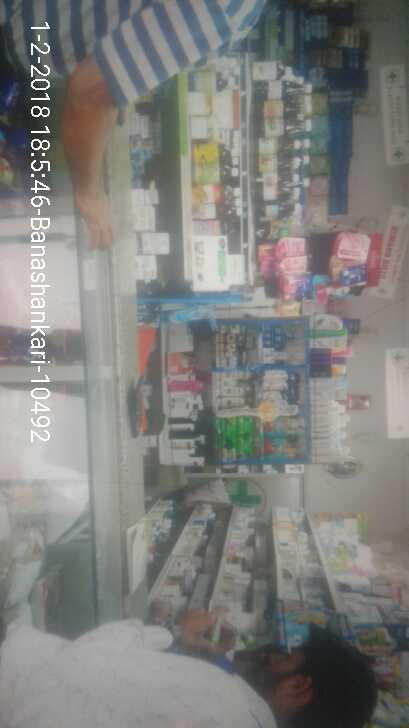beauty: (216, 385, 251, 397), (218, 397, 252, 409), (215, 332, 240, 343), (216, 343, 243, 352), (217, 352, 243, 360)
pharmacy: (266, 416, 306, 459), (218, 418, 255, 459)
